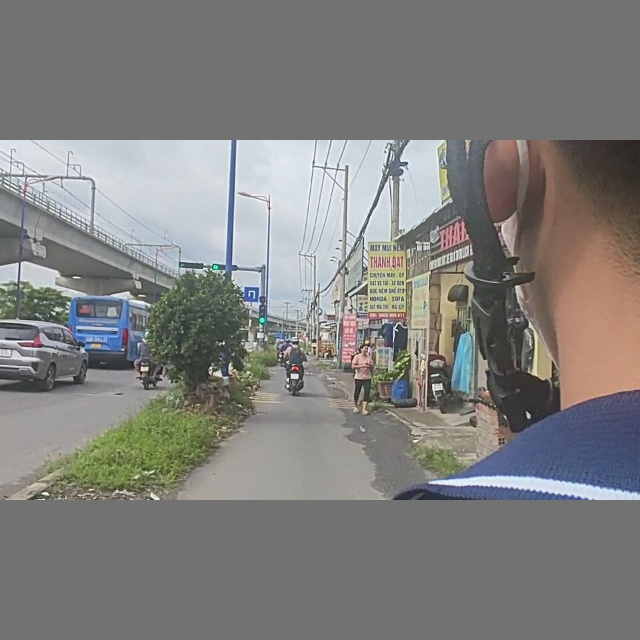I.409: (242, 285, 261, 302)
